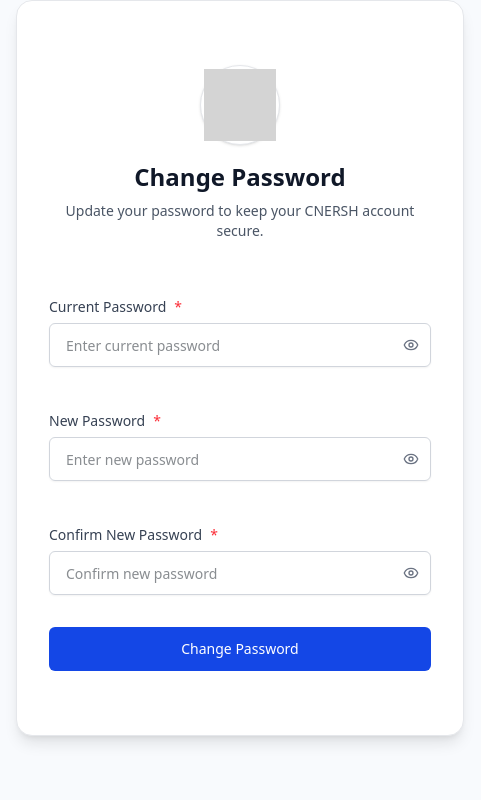
Test: ChangePasswordForm › Validation › shows error when current password is empty on submit
Click the button with test id "submit-button".
click(240, 649)  # box [49, 627, 431, 671]
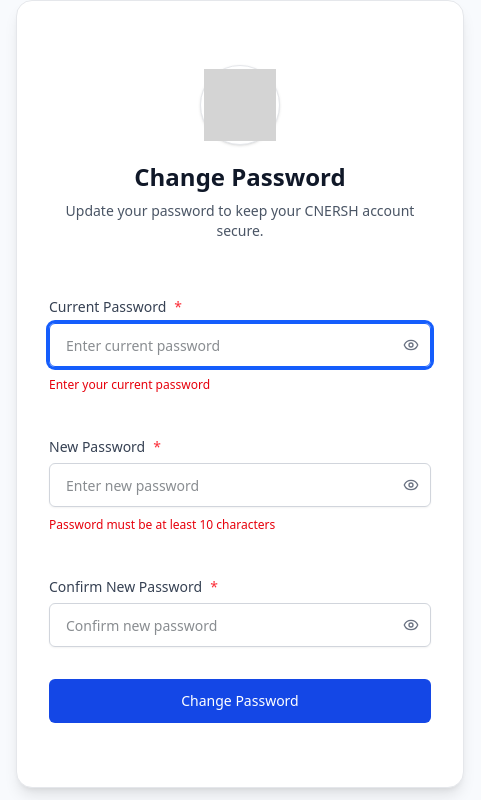
Check: the text "Enter your current password" is shown, box [49, 376, 210, 393]
